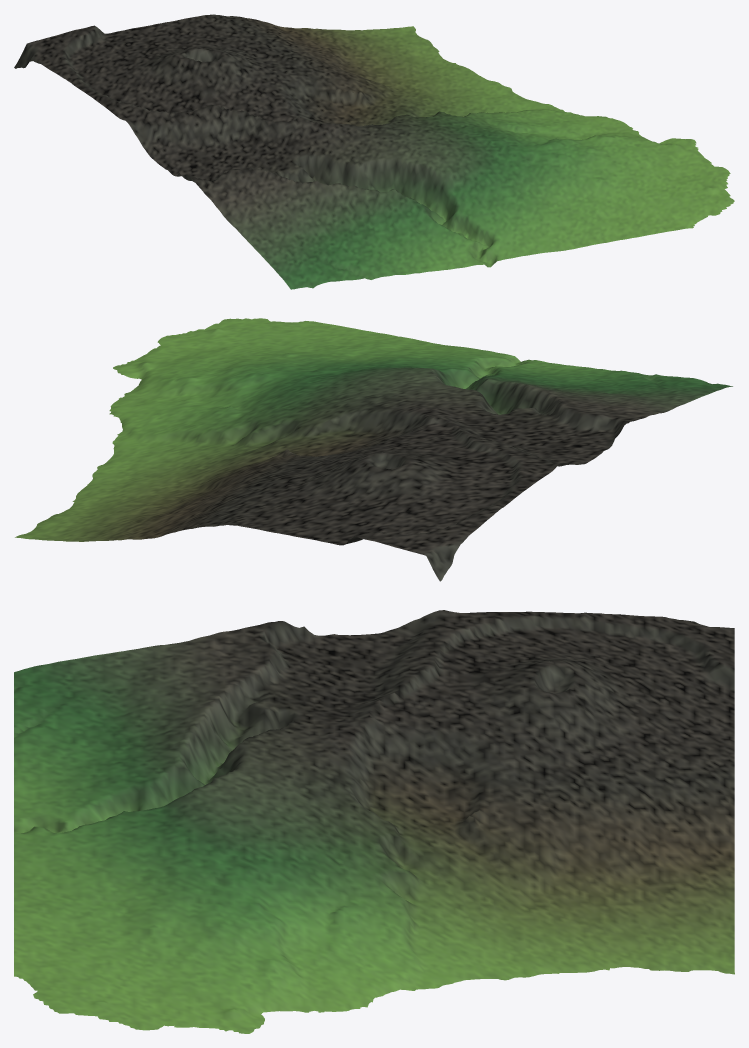
The model's file is lareunion-terrain-7.glb.
3 views of the same model, one above another, from view 1: azimuth 30°, elevation 25°; view 2: azimuth 150°, elevation 25°; view 3: azimuth 270°, elevation 25° (orthographic). The views are drawn at different scales.
Visible parts, largest first — view 1: LaReunionRgeAltiTerrain_7; view 2: LaReunionRgeAltiTerrain_7; view 3: LaReunionRgeAltiTerrain_7.
Boxes of the visible parts, left/top/right/bottom form: LaReunionRgeAltiTerrain_7: left=14, top=14, right=734, bottom=289; LaReunionRgeAltiTerrain_7: left=15, top=318, right=732, bottom=581; LaReunionRgeAltiTerrain_7: left=14, top=610, right=734, bottom=1033.
Bounding box in the file's own units: 52.69 × 9.48 × 51.18.
